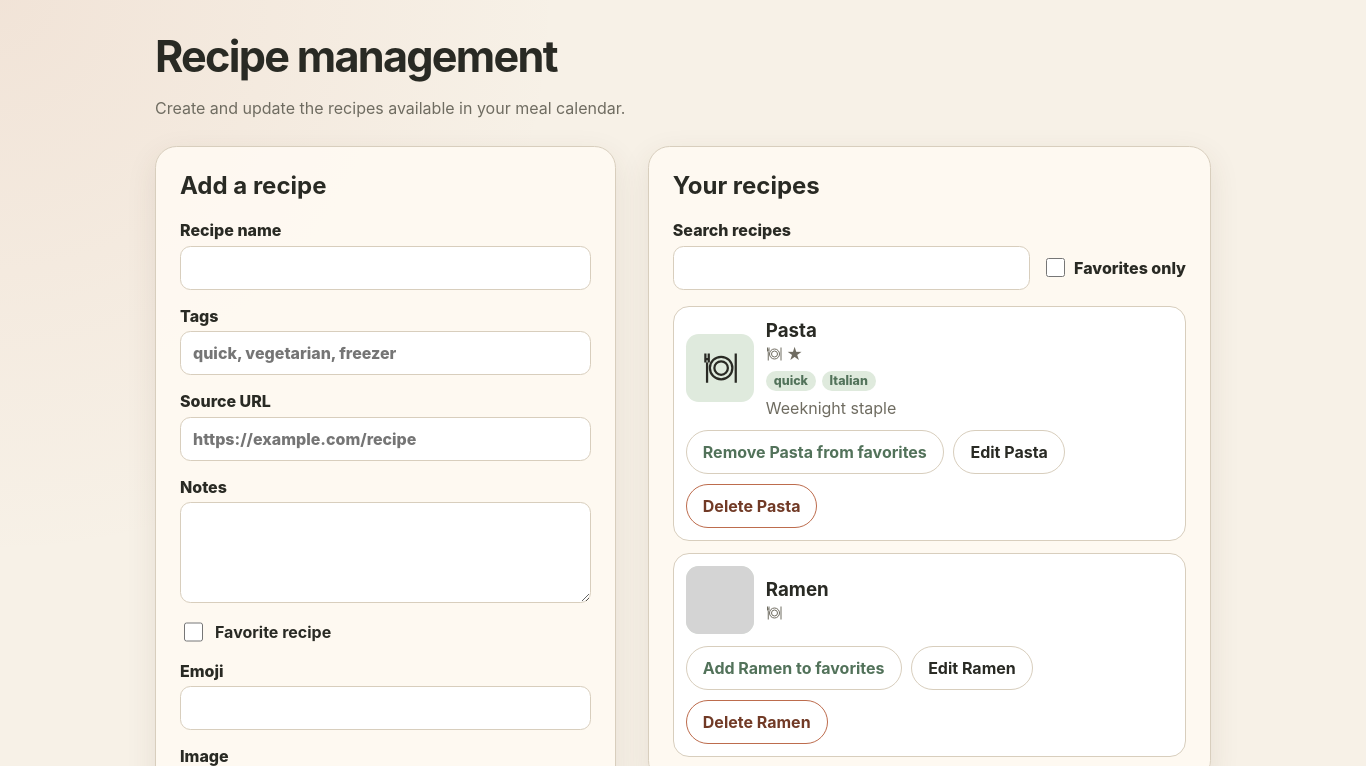
Test: RecipeManagementPage › confirms scheduled calendar entries will be removed before deleting
Expected: the heading "Pasta" is shown, [766,318,817,342]
Click the button "Delete Pasta". click: [752, 506]
box: [686,484,817,528]
(page scrolled)
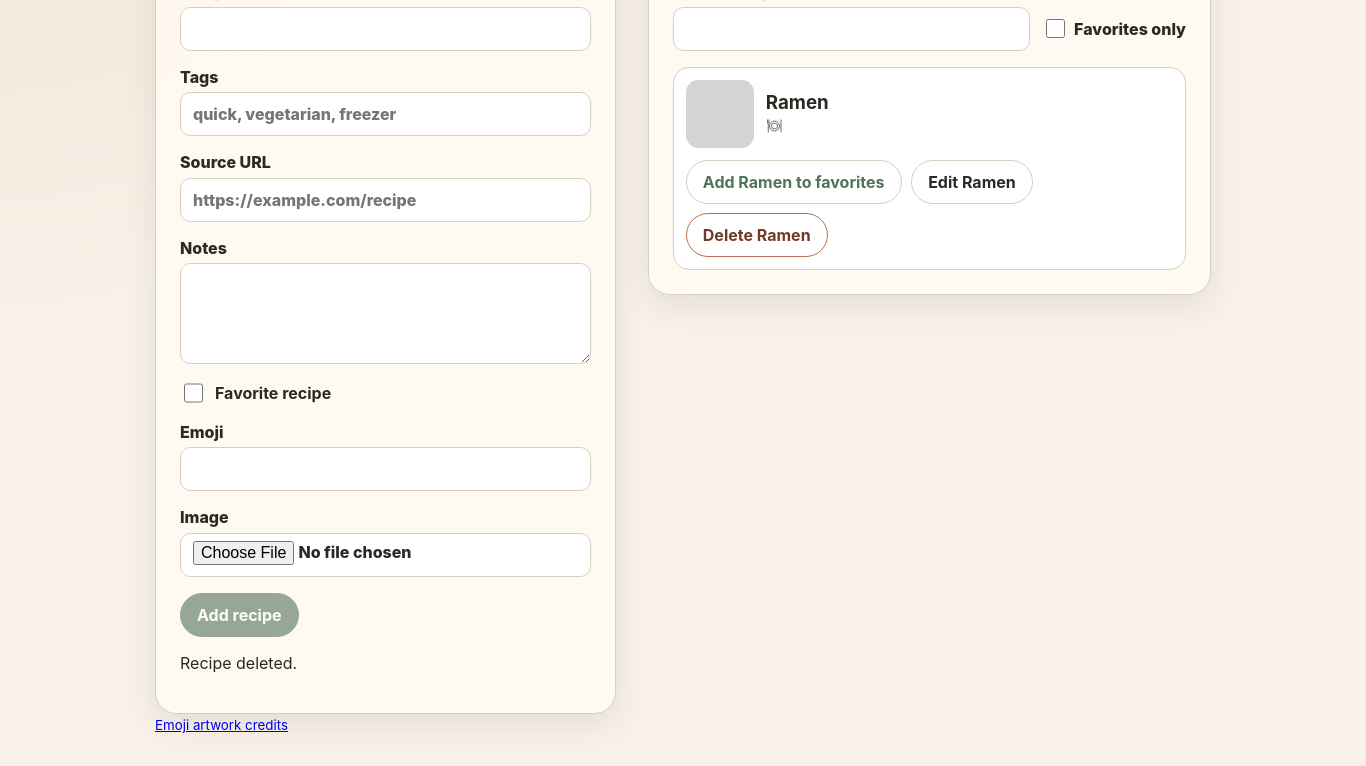
Expected: the heading "Pasta" is gone
Expected: the message reads "Recipe deleted.", [180,653,297,673]
